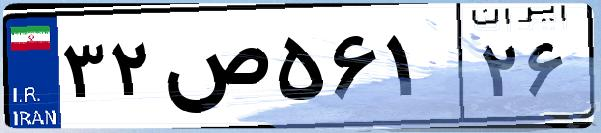1: (385, 28, 445, 110)
2: (475, 38, 525, 113), (110, 28, 158, 98)
3: (57, 26, 110, 100)
5: (270, 28, 330, 110)
6: (330, 28, 385, 110), (525, 38, 570, 115)
ص: (158, 20, 270, 120)
